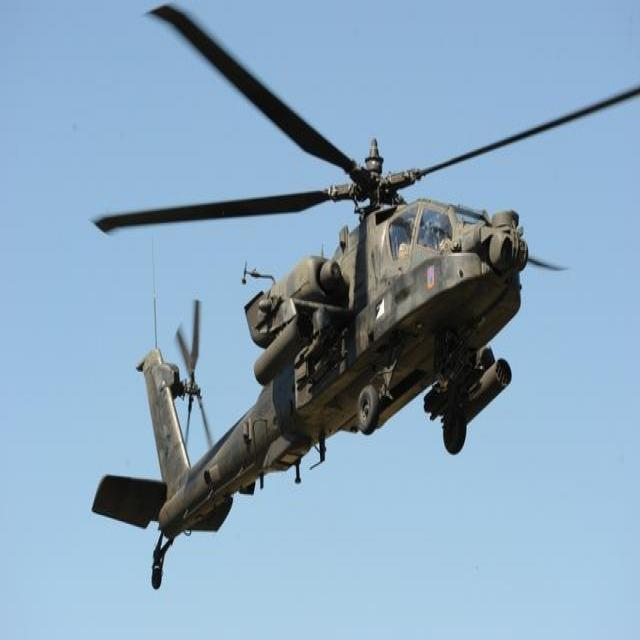MIL_HELO: (77, 0, 639, 585)
